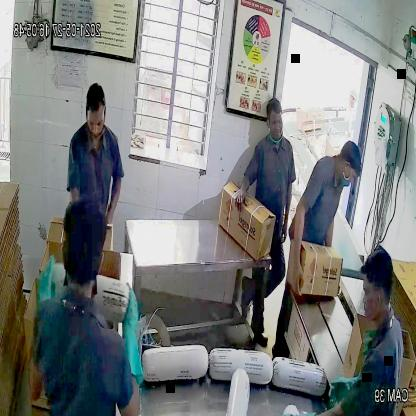no_goggles: (84, 111, 108, 134), (266, 112, 288, 133)
